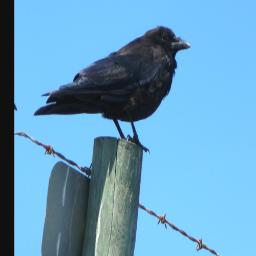Crow: (31, 0, 194, 163)
